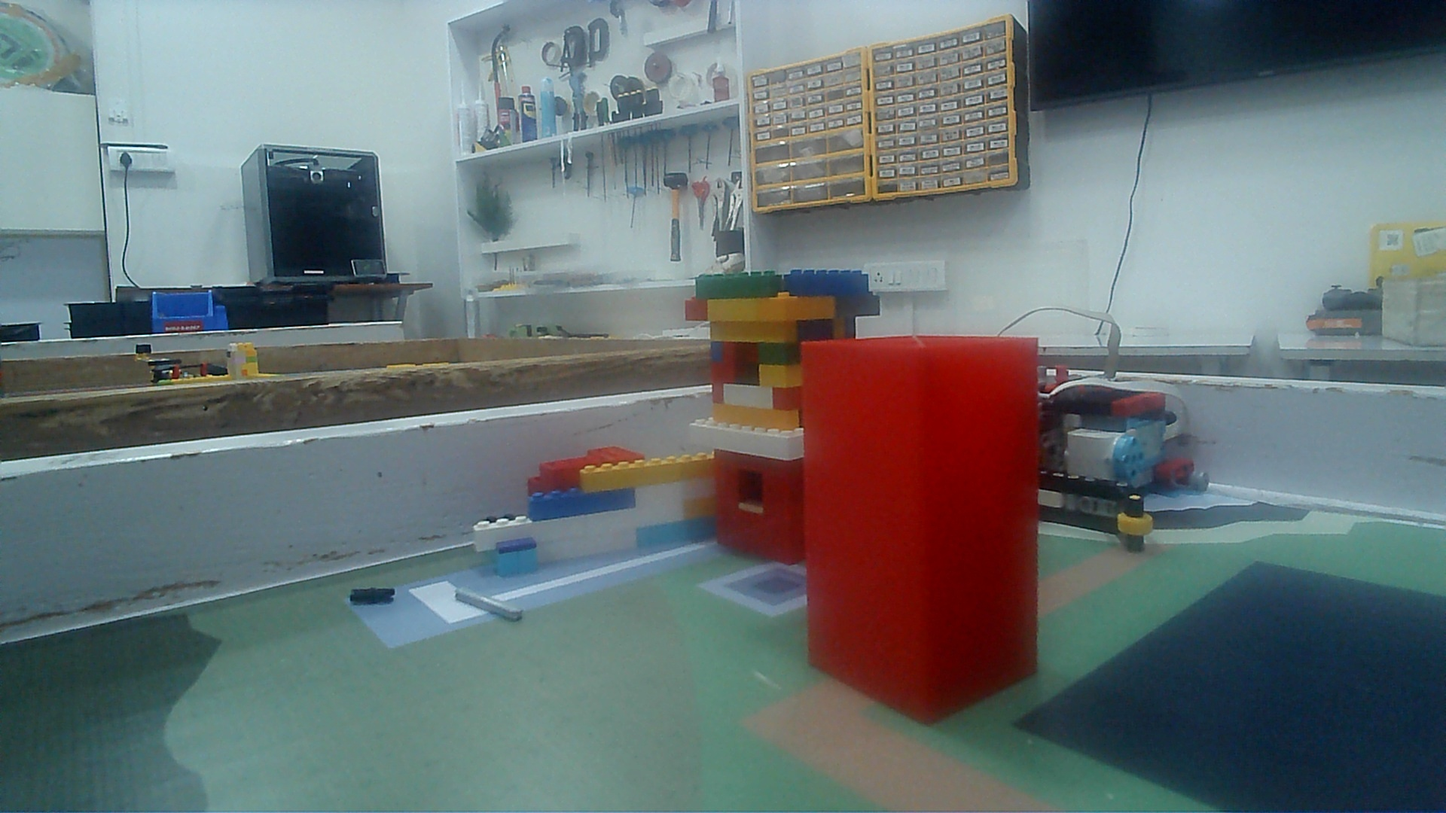red: (806, 340, 1036, 730)
